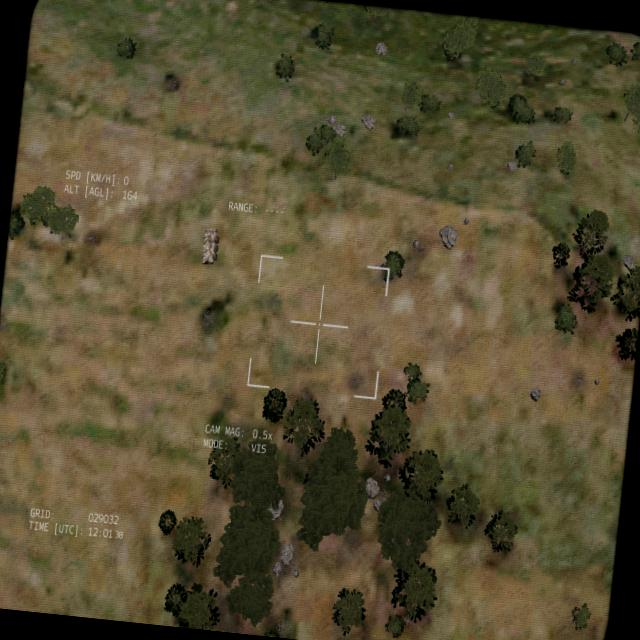apc: (199, 226, 220, 265)
